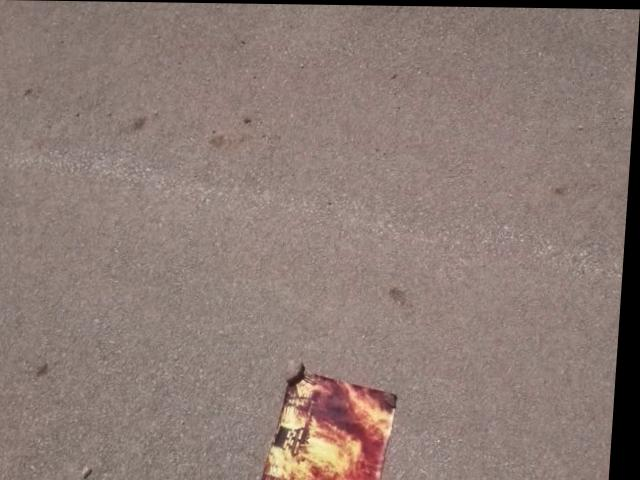fire-poster: (265, 361, 408, 480)
